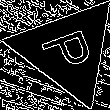P_E: (35, 24, 100, 76)
